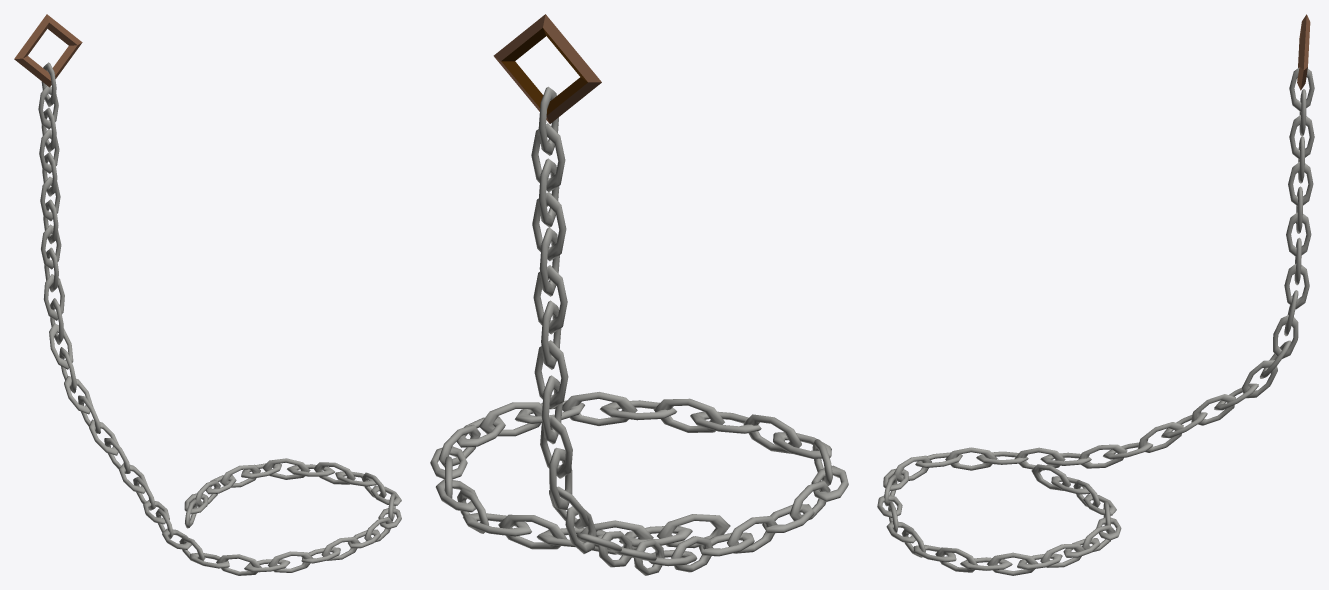
Rendered from chaine murale.fbx.
3 renders of one model, left to right at view 1: azimuth 30°, elevation 25°; view 2: azimuth 150°, elevation 25°; view 3: azimuth 270°, elevation 25°, orthographic. The views are drawn at different scales.
Visible parts, largest first — view 1: transform7_30; view 2: transform7_30; view 3: transform7_30.
Part boxes in pixels (box(x1,y1,x2,y2)): transform7_30: box(14, 14, 401, 575); transform7_30: box(430, 14, 848, 575); transform7_30: box(877, 14, 1314, 575).
Size of the model in its own units: 171 by 300 by 257.
